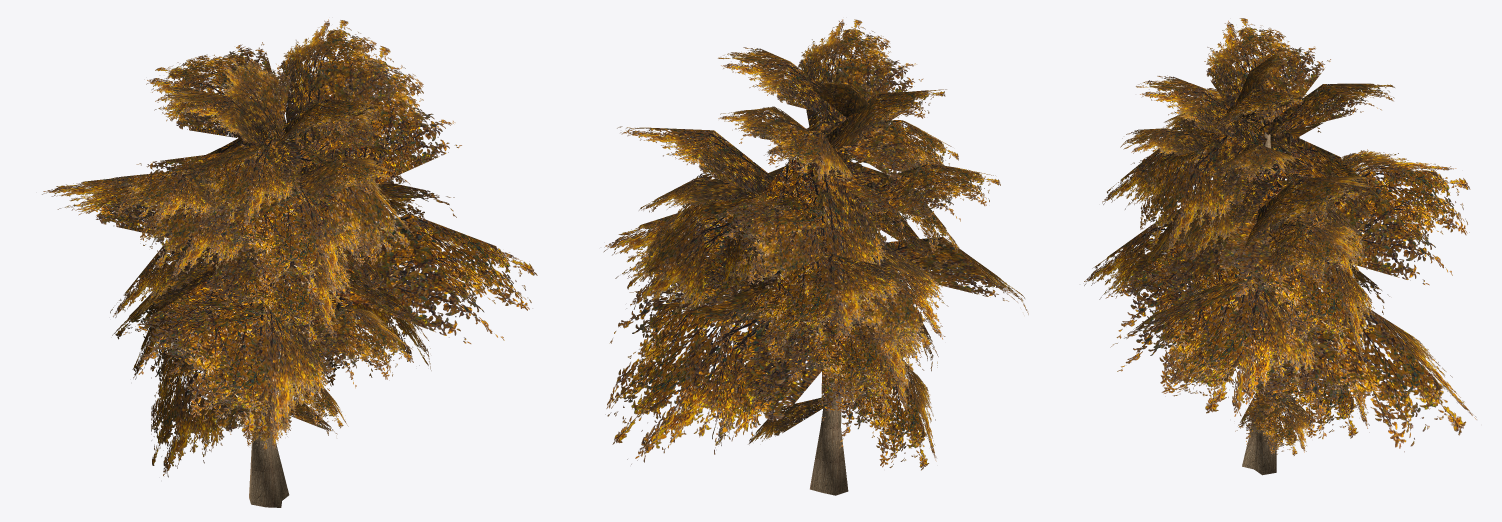
The model's file is tree2.fbx.
The picture shows the model from 3 angles, left to right: view 1: azimuth 30°, elevation 25°; view 2: azimuth 150°, elevation 25°; view 3: azimuth 270°, elevation 25°; orthographic projection. The views are drawn at different scales.
Parts seen in each view (by area): view 1: Cylinder.004; view 2: Cylinder.004; view 3: Cylinder.004.
Boxes of the visible parts, x1,y1,x2,y2 form: Cylinder.004: (42, 19, 537, 507); Cylinder.004: (603, 19, 1028, 495); Cylinder.004: (1084, 18, 1476, 475).
Bounding box in the file's own units: 3402 × 3280 × 2978.
